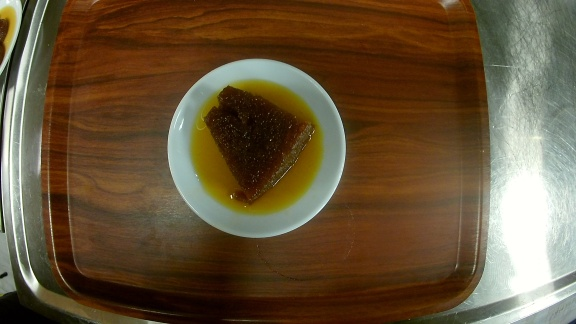ekmekkadayifi: (168, 58, 348, 237)
